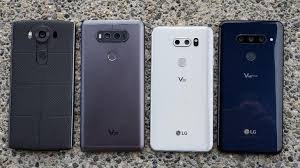lg: (216, 18, 284, 156), (79, 17, 147, 155), (8, 17, 76, 153), (148, 23, 216, 154)
